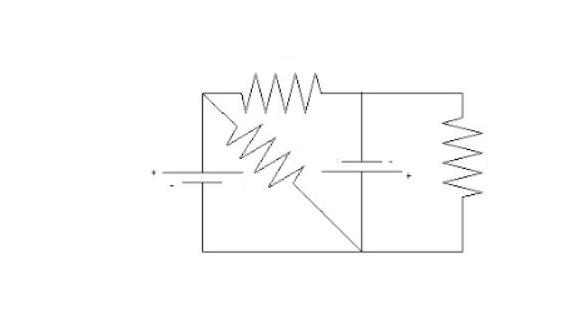resistor: (427, 103, 500, 219), (218, 107, 307, 201), (220, 60, 328, 118)
